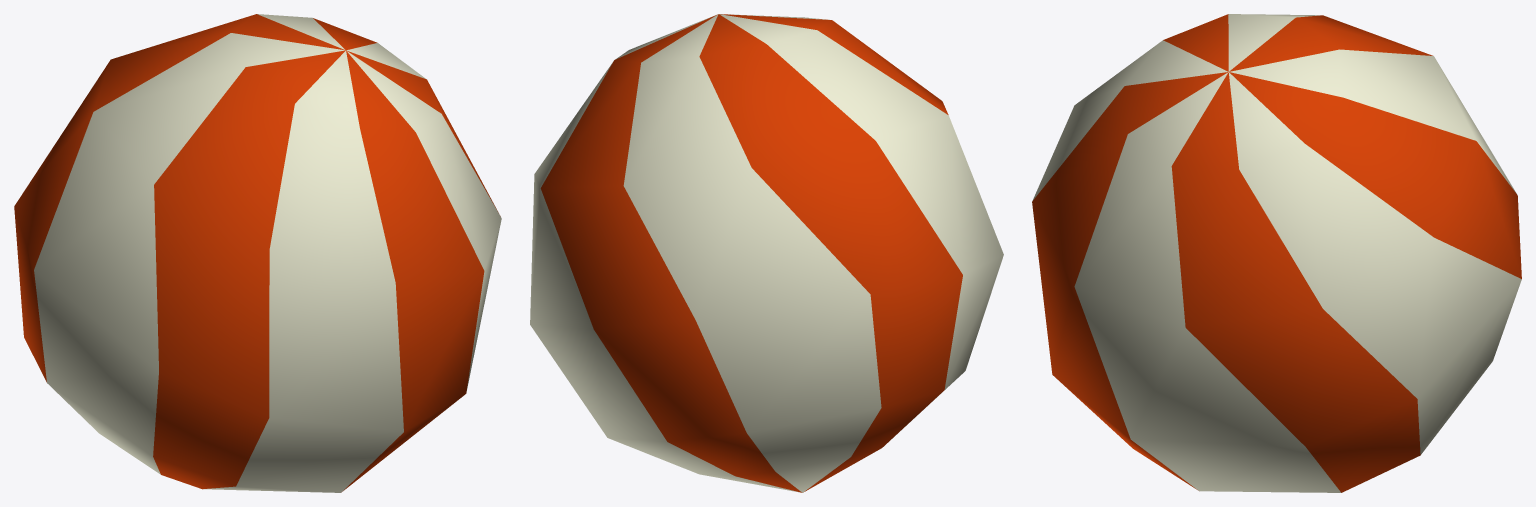
Rendered from Santa_Claus_ball.fbx.
3 renders of one model, left to right at view 1: azimuth 30°, elevation 25°; view 2: azimuth 150°, elevation 25°; view 3: azimuth 270°, elevation 25°, orthographic. The views are drawn at different scales.
Visible parts, largest first — view 1: Santa__Claus_ball; view 2: Santa__Claus_ball; view 3: Santa__Claus_ball.
Part boxes in pixels (<box>): Santa__Claus_ball: <box>14,14,501,492</box>; Santa__Claus_ball: <box>530,14,1003,492</box>; Santa__Claus_ball: <box>1032,14,1521,492</box>.
Bounding box in the file's own units: 33.01 × 32.59 × 32.6.
